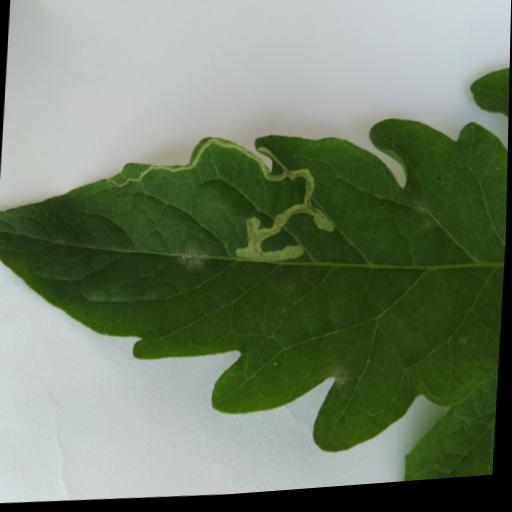Leaf_Miner: (92, 91, 373, 341)
